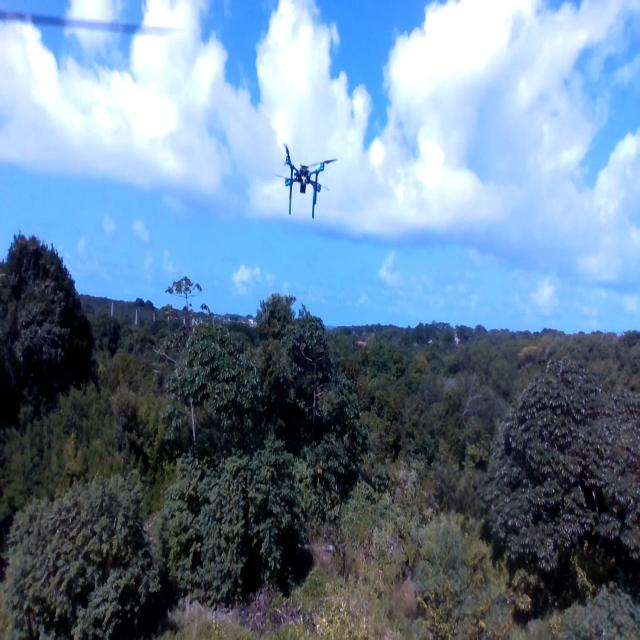-uav-: (269, 135, 339, 228)
